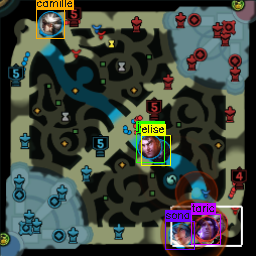camille: (37, 9, 63, 35)
elise: (145, 139, 171, 163)
jayce: (137, 134, 161, 157)
sona: (168, 221, 192, 246)
taric: (194, 215, 217, 241)
tristana: (203, 209, 226, 234)
